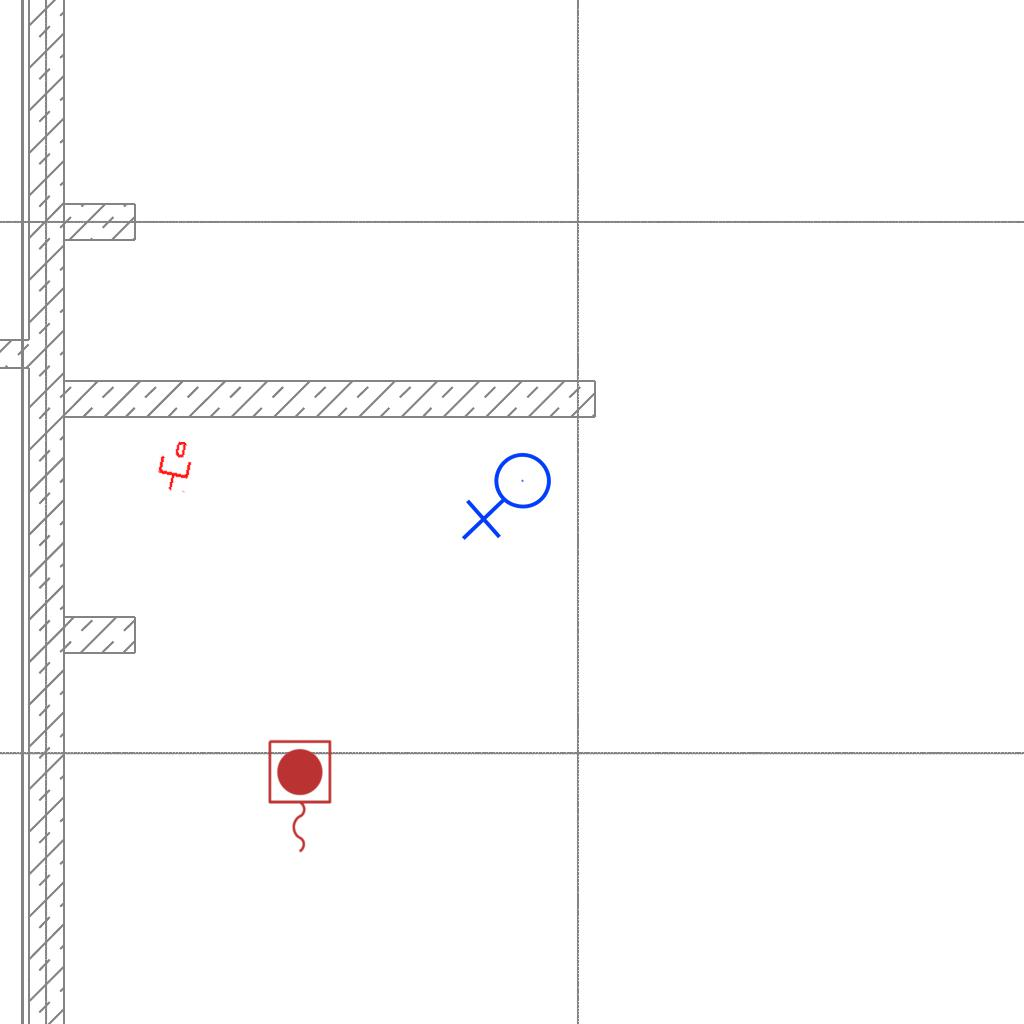Datenanschluss_einfach: (153, 438, 197, 494)
Elektroanschluss_allgemein_230V_Geraeteanschlussdose_230V: (461, 451, 560, 545)
Zugtaster: (263, 736, 335, 858)
